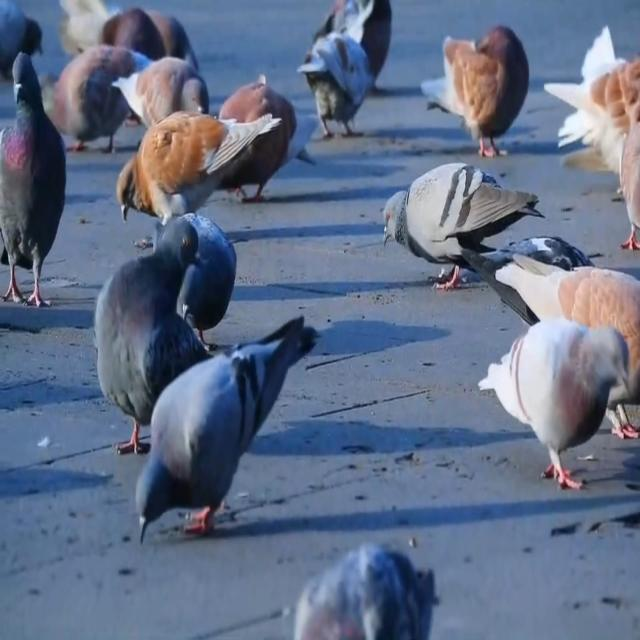bird: (127, 290, 320, 570), (463, 295, 640, 493), (88, 196, 216, 441), (113, 102, 284, 276), (359, 138, 532, 294), (530, 26, 640, 270), (0, 43, 89, 318), (503, 227, 640, 394), (279, 504, 447, 640), (435, 210, 598, 320), (147, 185, 260, 343), (271, 0, 382, 155), (412, 11, 538, 145), (212, 55, 310, 220), (112, 49, 228, 151), (48, 0, 204, 60), (324, 0, 396, 83), (131, 0, 208, 68), (0, 0, 58, 89)
